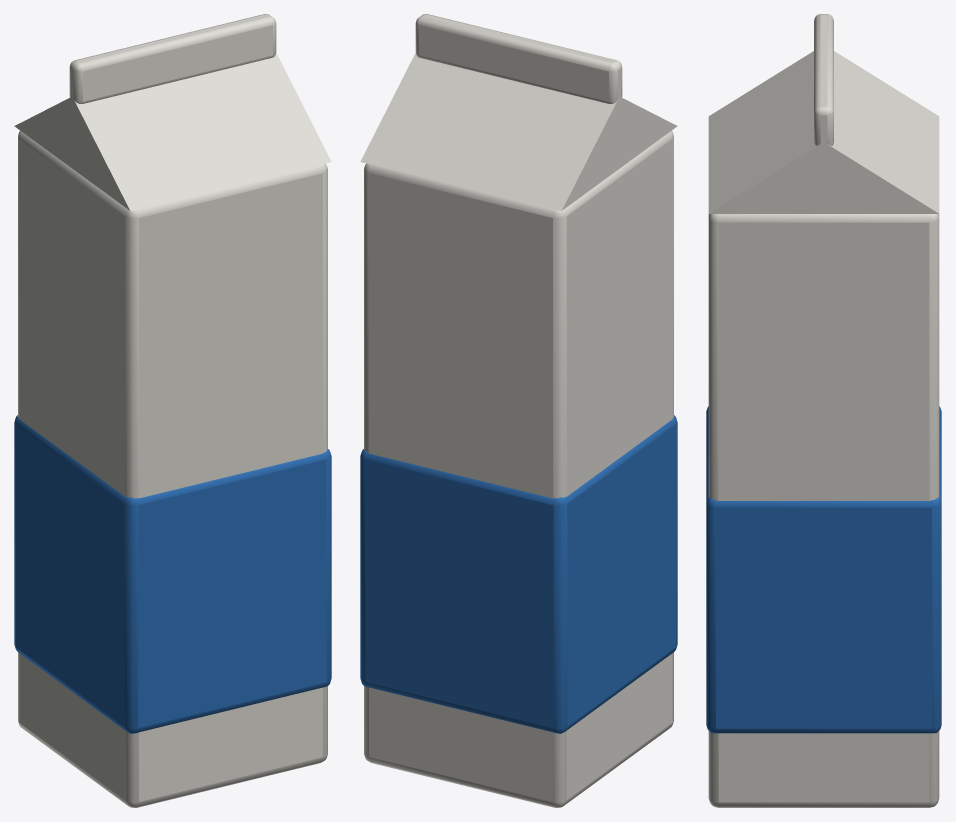
The model's file is item_carton.fbx.
3 renders of one model, left to right at view 1: azimuth 30°, elevation 25°; view 2: azimuth 150°, elevation 25°; view 3: azimuth 270°, elevation 25°, orthographic.
Visible parts, largest first — view 1: item_carton; view 2: item_carton; view 3: item_carton.
Boxes of the visible parts, left/top/right/bottom form: item_carton: left=14, top=14, right=331, bottom=807; item_carton: left=360, top=14, right=677, bottom=807; item_carton: left=706, top=14, right=941, bottom=807.
Bounding box in the file's own units: 0.0715 × 0.235 × 0.0715.
